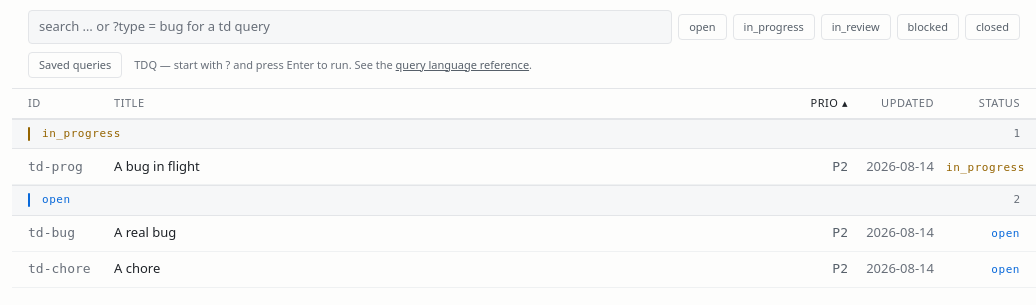
Scenario: IssueList › TDQ mode › shows td's own message for an invalid query, with a link to the grammar
expect the text "A real bug" is shown: met, box [114, 223, 176, 241]
Step 1. Type "?status =" into the search field labelled "search" → {"x": 350, "y": 27}, box [28, 10, 672, 44]
Then press Enter
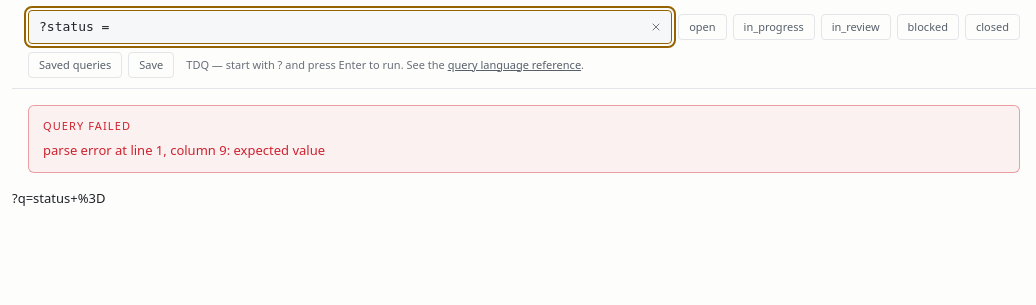
expect the link "query language reference" is shown: met, box [448, 56, 581, 72]
expect the text "parse error at line 1, column 9: expected value" is shown: met, box [43, 140, 325, 158]
